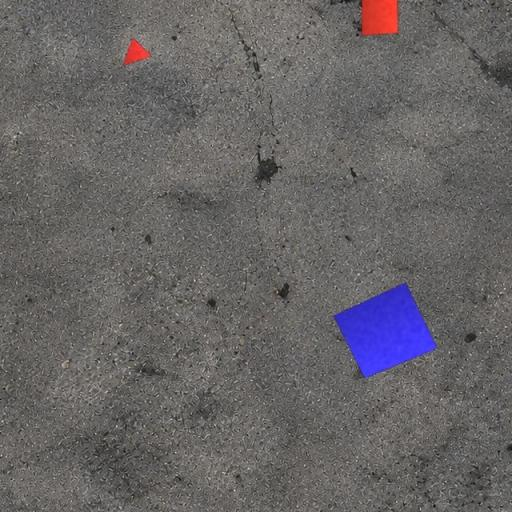BLUE_SQUARE: (332, 282, 438, 379)
RED_SQUARE: (361, 0, 399, 37)
